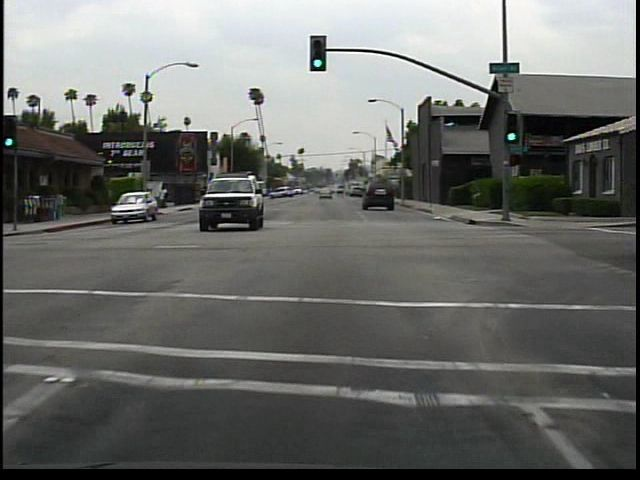person: (159, 183, 171, 210)
